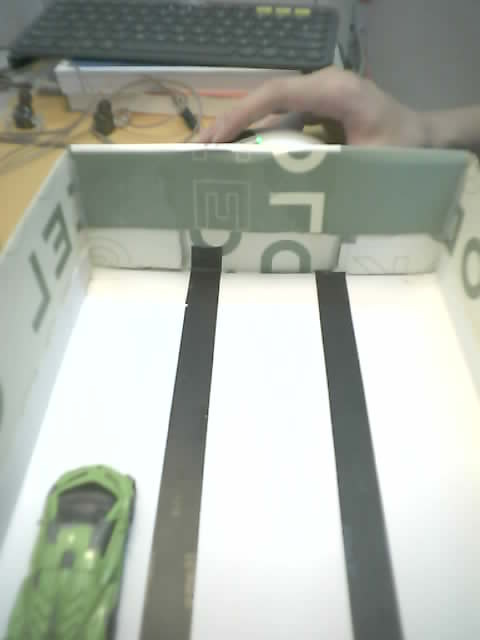vehicle: (15, 465, 138, 630)
